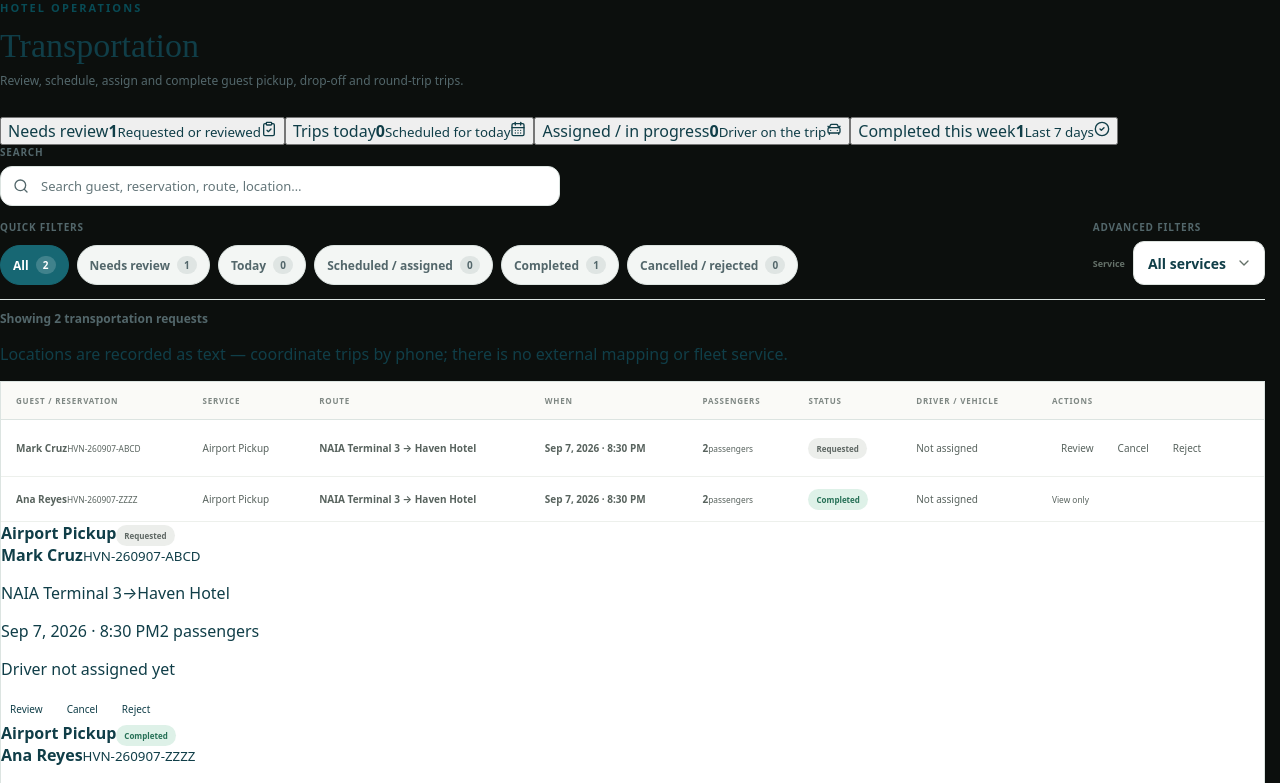
Test case: TransportationPanel render layer › clicking a KPI card activates its queue filter
Expected: the text "Mark Cruz" below "Guest / reservation" is shown, [16,441,67,455]
Click the button "Completed this week1Last 7 days" at (984, 131), box [850,117,1118,145]
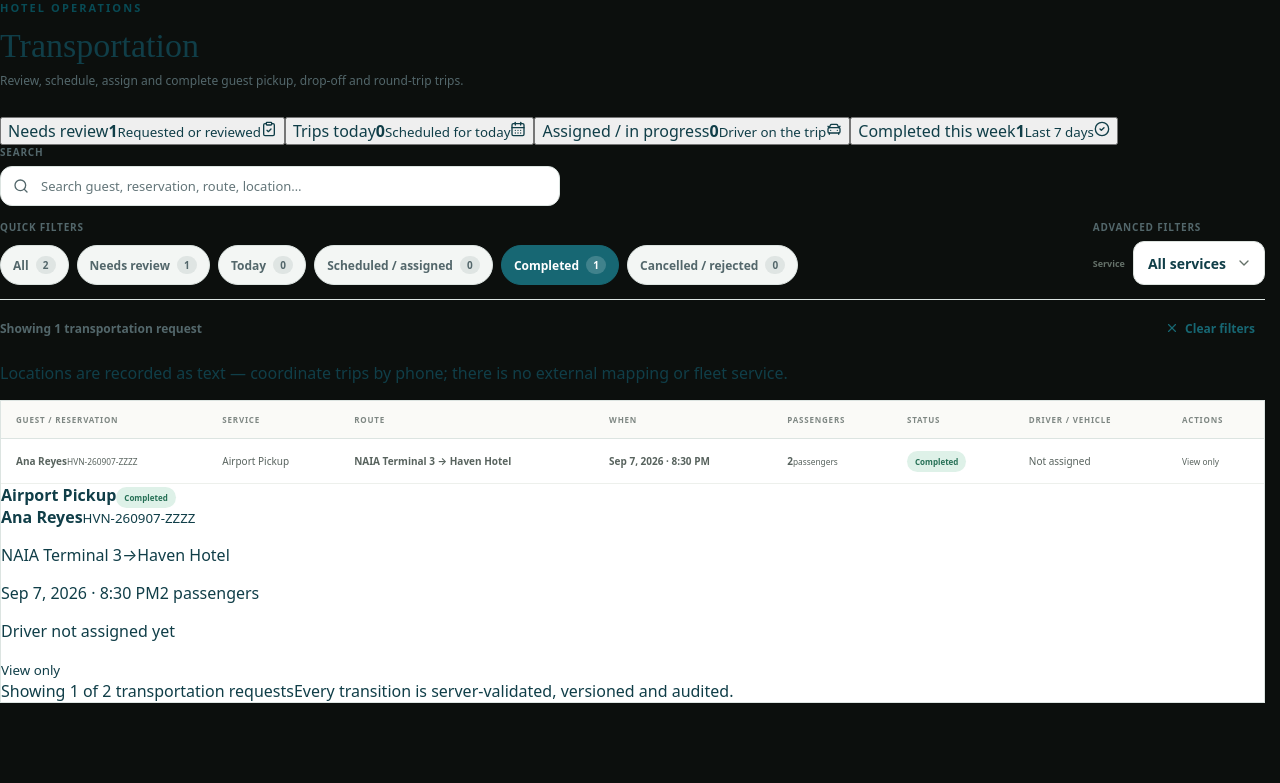
Expected: the text "HVN-260907-ABCD" is not shown
